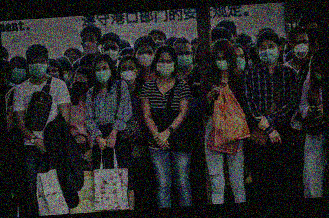with_mask: (258, 42, 279, 65), (120, 63, 140, 85), (174, 48, 194, 69), (291, 38, 311, 59), (28, 58, 48, 78), (156, 56, 175, 77), (135, 48, 154, 67), (10, 63, 27, 83), (96, 64, 113, 84), (73, 73, 88, 95), (102, 44, 120, 62), (233, 51, 247, 73), (215, 52, 231, 71), (82, 35, 97, 54), (314, 68, 322, 84)
